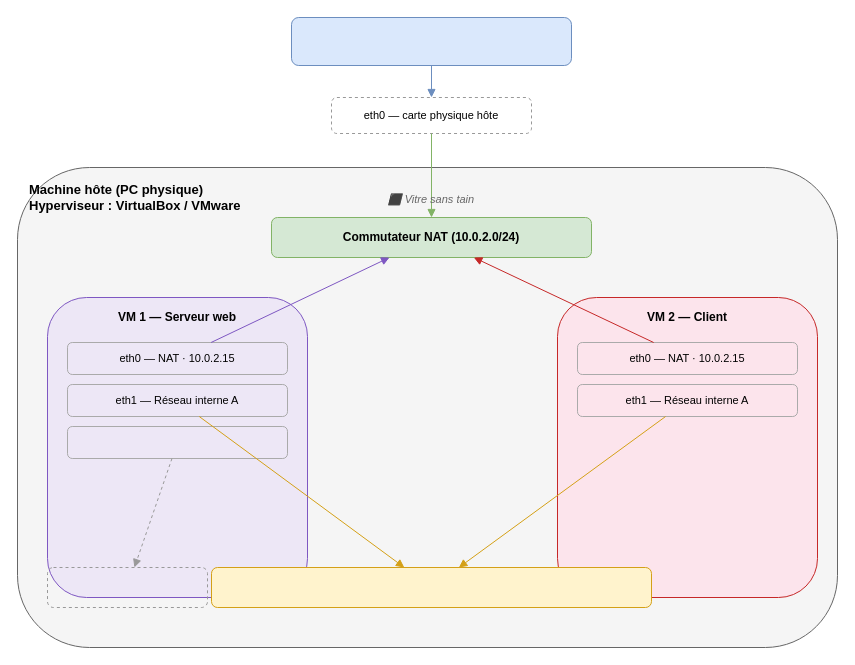
Some shapes in this 855 by 665 pixel diagram are drawn without their labels. The centre of each missing label's shape, as x and y in pixels:
eth2 — Host-only · 192.168.56.x: the point at 177,442
Host-only (192.168.56.0/24): the point at 127,587
Internet / LAN physique: the point at 431,41
Réseau interne A (192.168.10.0/24): the point at 431,587
